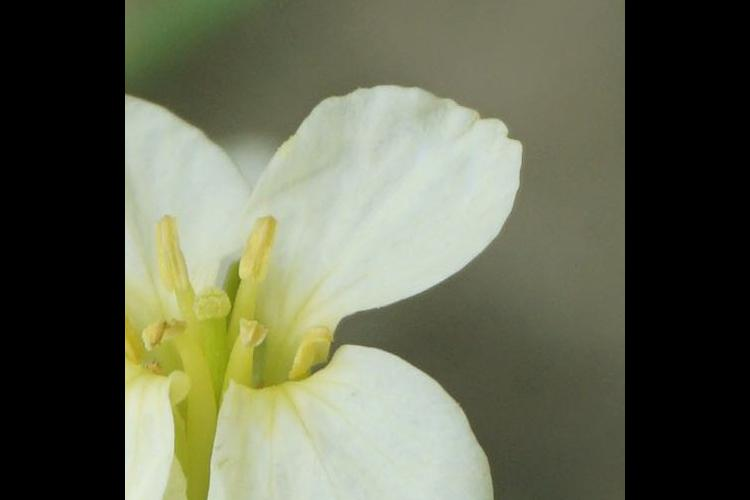white: (129, 80, 521, 500)
